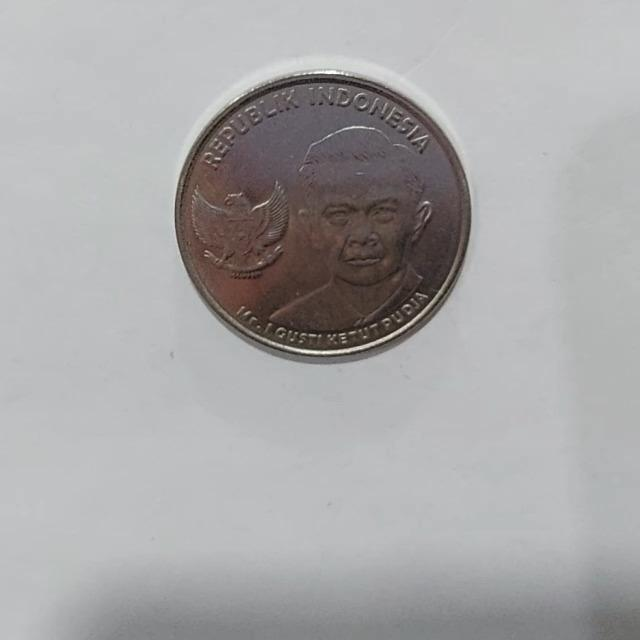Rp100: (173, 65, 473, 363), (256, 122, 436, 337)
